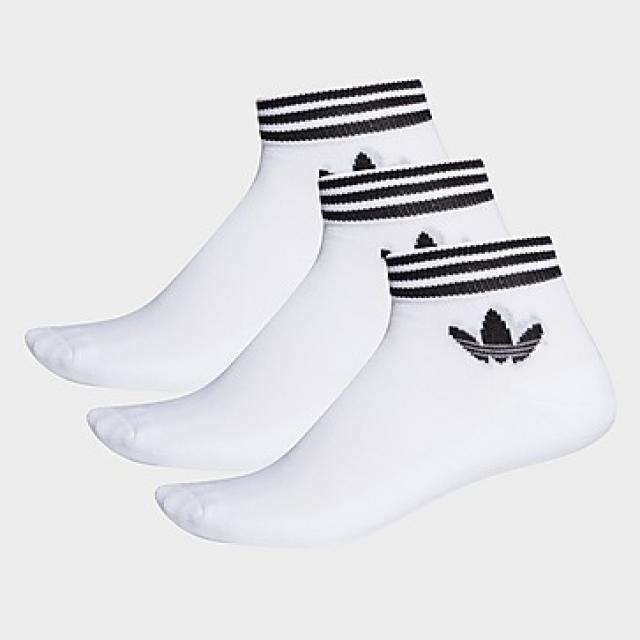sock: (23, 76, 450, 393), (84, 155, 510, 471)
